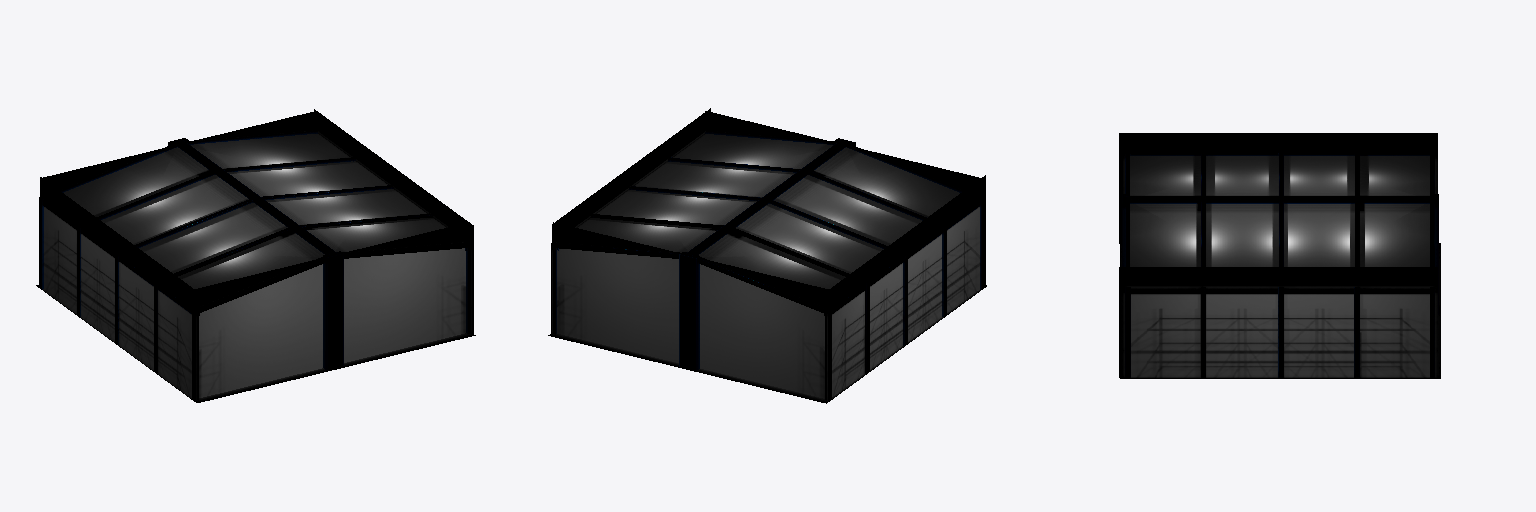
3 renders of one model, left to right at view 1: azimuth 30°, elevation 25°; view 2: azimuth 150°, elevation 25°; view 3: azimuth 270°, elevation 25°, orthographic.
Visible parts, largest first — view 1: Box064, Box060, Box067; view 2: Box064, Box060, Box067; view 3: Box064, Box060, Box067.
Boxes of the visible parts, x1,y1,x2,y2 form: Box064: [40, 109, 473, 402]; Box060: [36, 134, 475, 402]; Box067: [39, 130, 470, 400]; Box064: [552, 108, 985, 400]; Box060: [548, 134, 986, 403]; Box067: [551, 131, 983, 400]; Box064: [1119, 133, 1437, 377]; Box060: [1120, 156, 1440, 378]; Box067: [1122, 153, 1438, 377].
Size of the model in its own units: 82.86 by 33.05 by 83.02.
Materials: 4 (4 with a texture image).